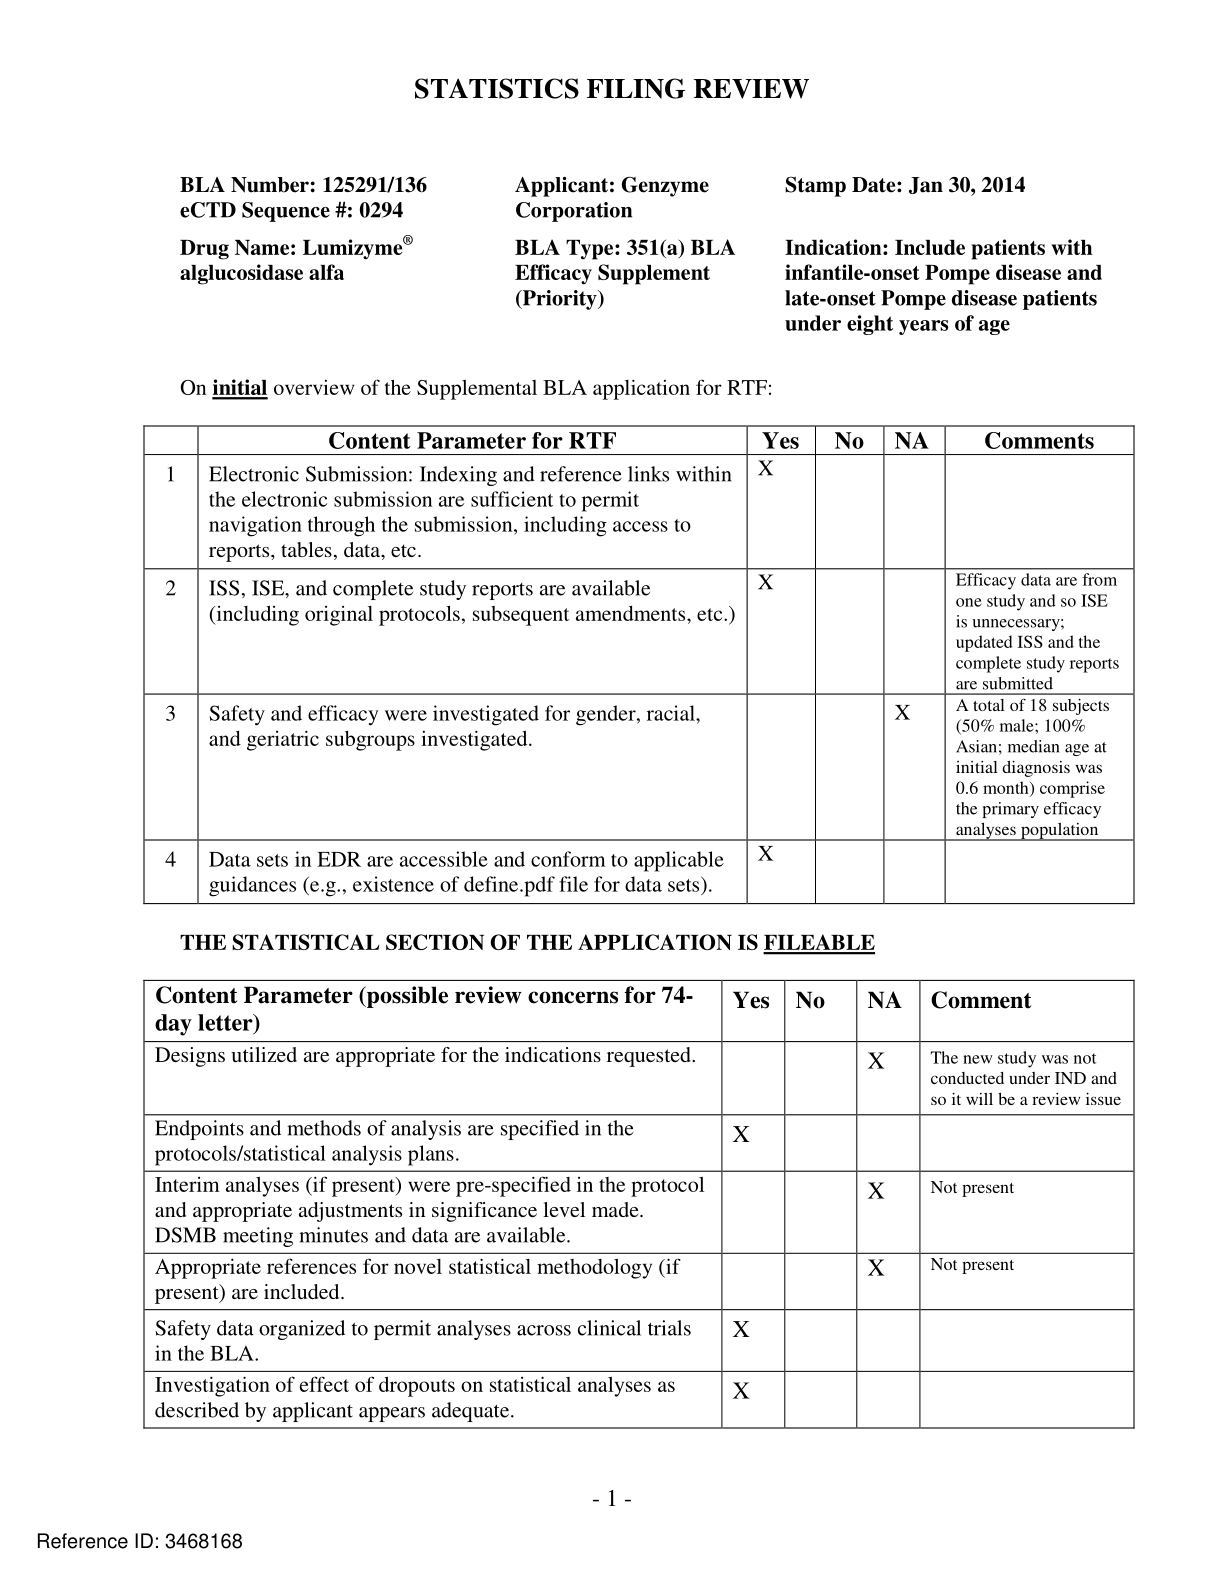full_lined: (143, 426, 1135, 905), (141, 978, 1135, 1430)
nolines: (175, 172, 1103, 336)
